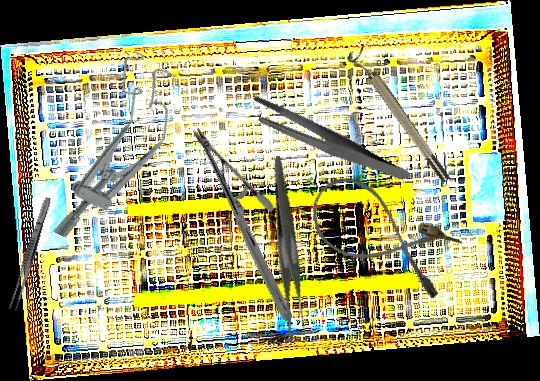Cannula: (298, 166, 467, 304)
Dressing Forceps: (244, 65, 412, 218), (240, 155, 340, 340), (7, 195, 54, 313)
Fixation Ring: (345, 43, 453, 189)
Needle Holder: (134, 126, 351, 323)
Speculum: (39, 48, 195, 258)
